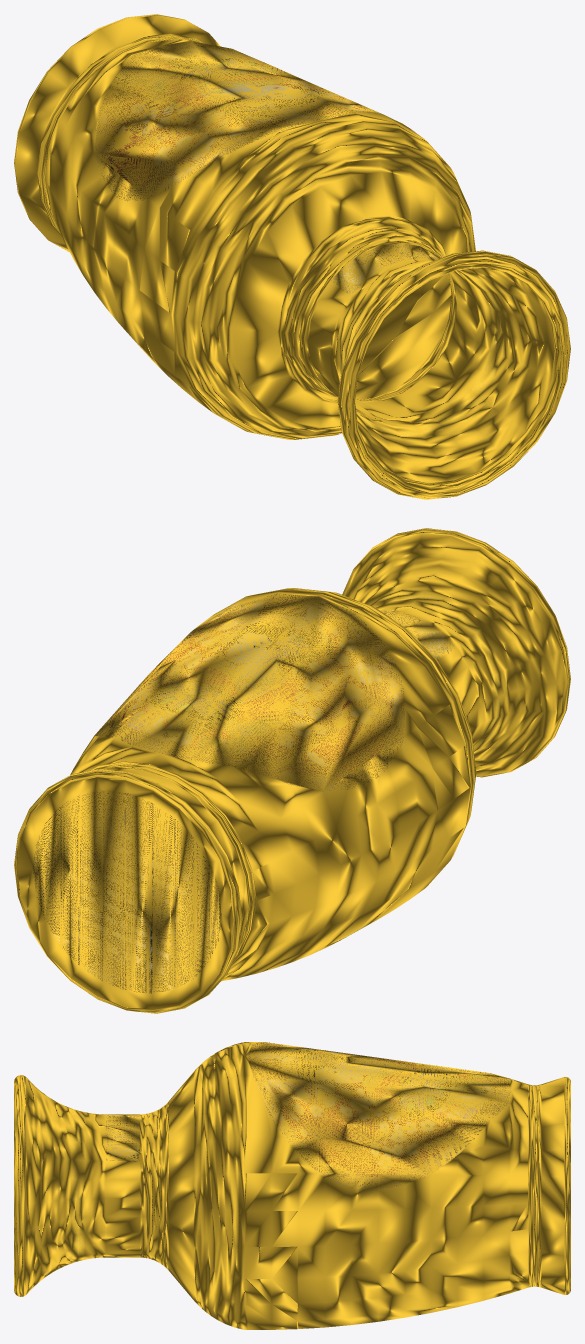
File: model_align.obj
3 views of the same model, one above another, from view 1: azimuth 30°, elevation 25°; view 2: azimuth 150°, elevation 25°; view 3: azimuth 270°, elevation 25° (orthographic). The views are drawn at different scales.
Bounding box in the file's own units: 0.0636 × 0.0634 × 0.1225.
Materials: 9 (9 with a texture image).
